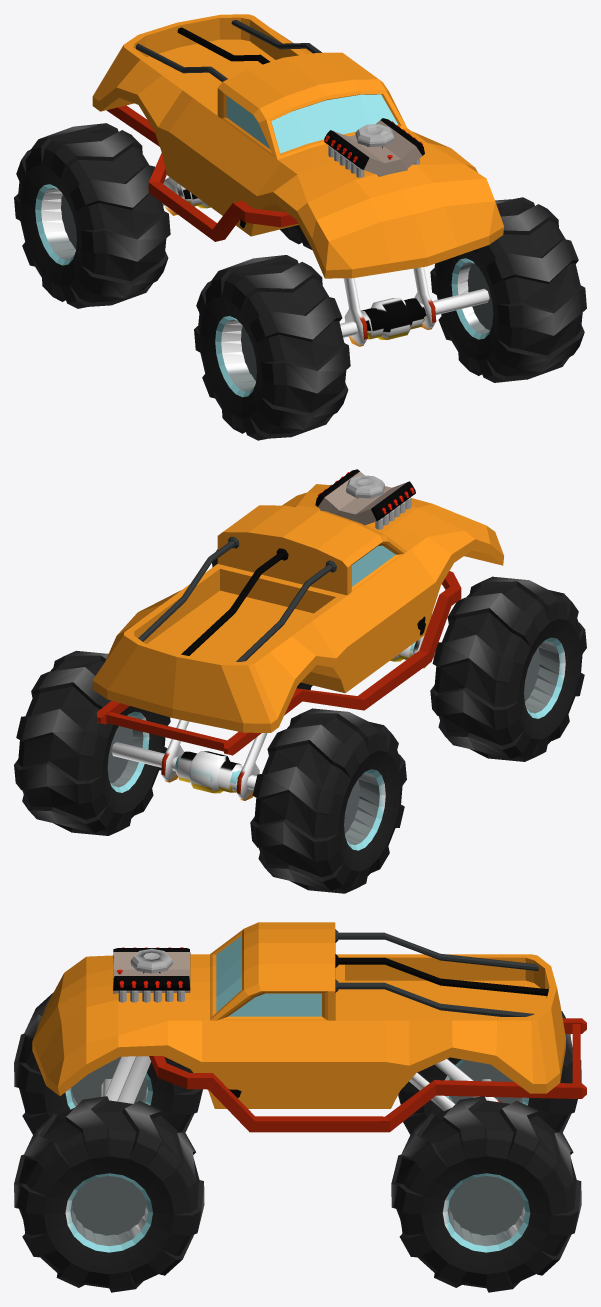
The model's file is Yellow.fbx.
3 renders of one model, top to bottom at view 1: azimuth 30°, elevation 25°; view 2: azimuth 150°, elevation 25°; view 3: azimuth 270°, elevation 25°, orthographic. The views are drawn at different scales.
Parts seen in each view (by area): view 1: Monster_Truck_Body.001; view 2: Monster_Truck_Body.001; view 3: Monster_Truck_Body.001.
Part boxes in pixels (left/top/right/bottom): Monster_Truck_Body.001: left=14, top=14, right=586, bottom=440; Monster_Truck_Body.001: left=14, top=469, right=586, bottom=893; Monster_Truck_Body.001: left=14, top=922, right=586, bottom=1292.
Size of the model in its own units: 485 by 385 by 722.
Materials: 5 (1 with a texture image).
